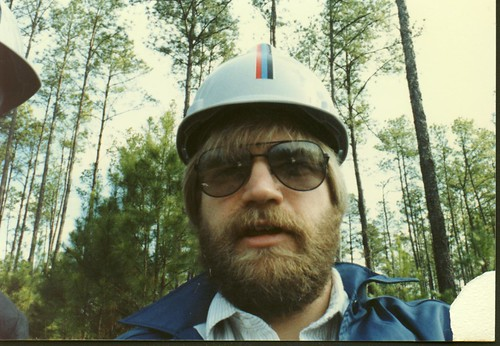person hardhat: (134, 42, 420, 343)
